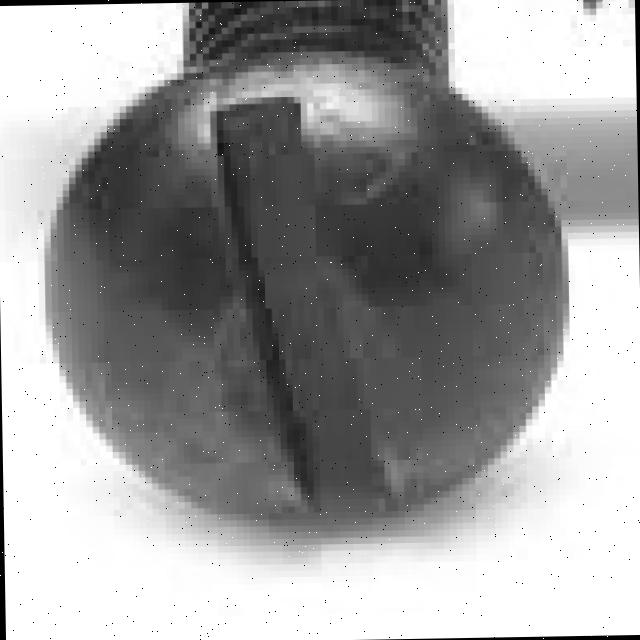Slotted: (38, 79, 580, 558)
